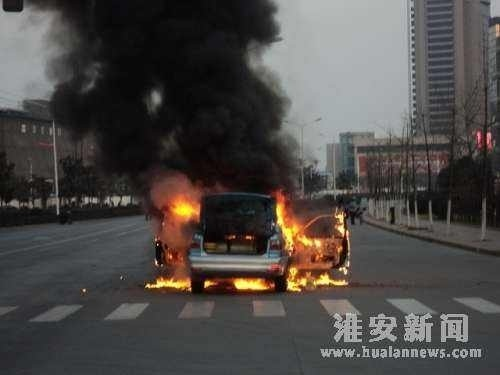fire: (140, 186, 352, 299)
